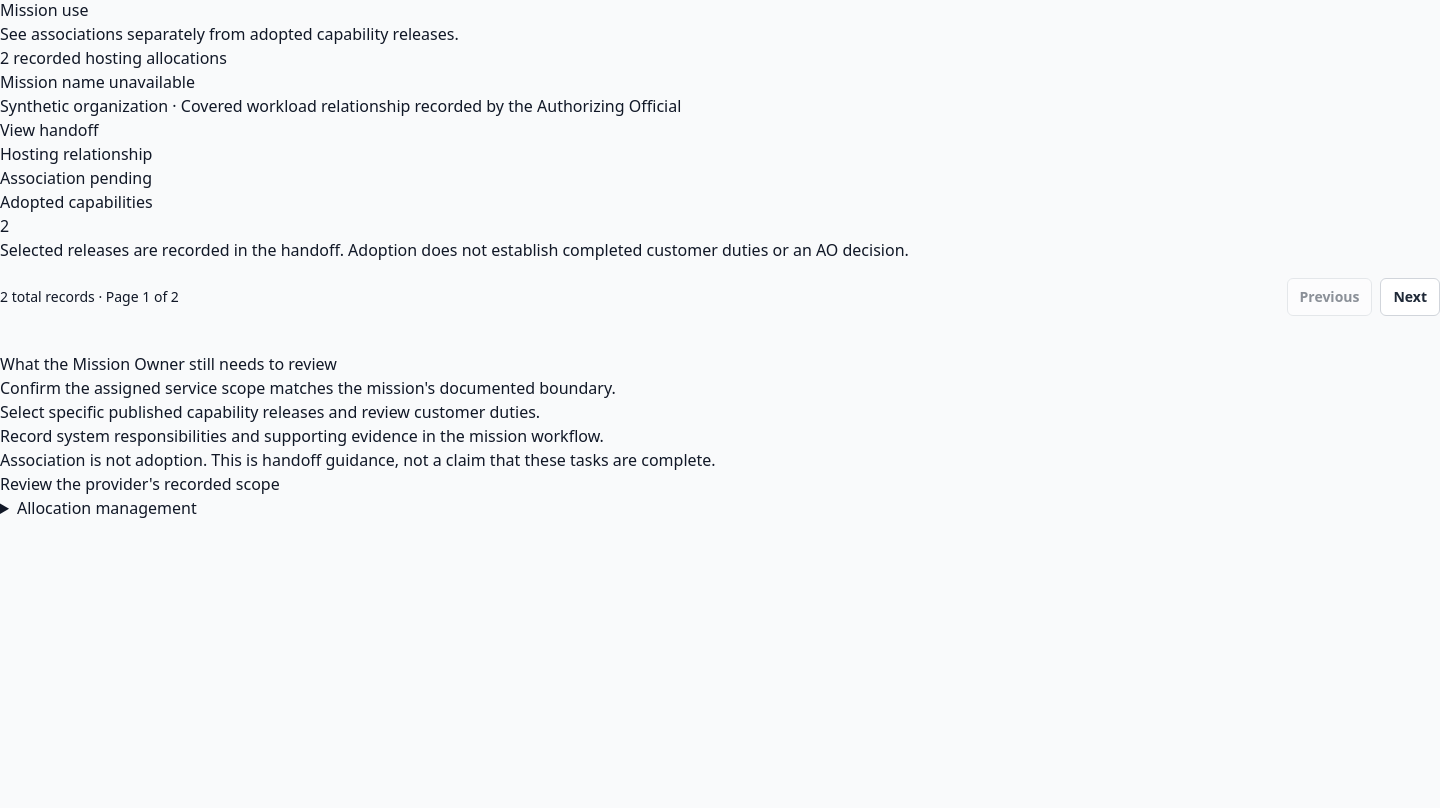
Test: paginates exact adopted releases while distinguishing available updates and unknown versions
The image size is (1440, 808).
Expected: the heading "Mission name unavailable" is shown, [0,71,195,93]
Click the button with aria-label "View handoff for Mission name unavailable": (49, 130) [0,118,98,142]
(page scrolled)
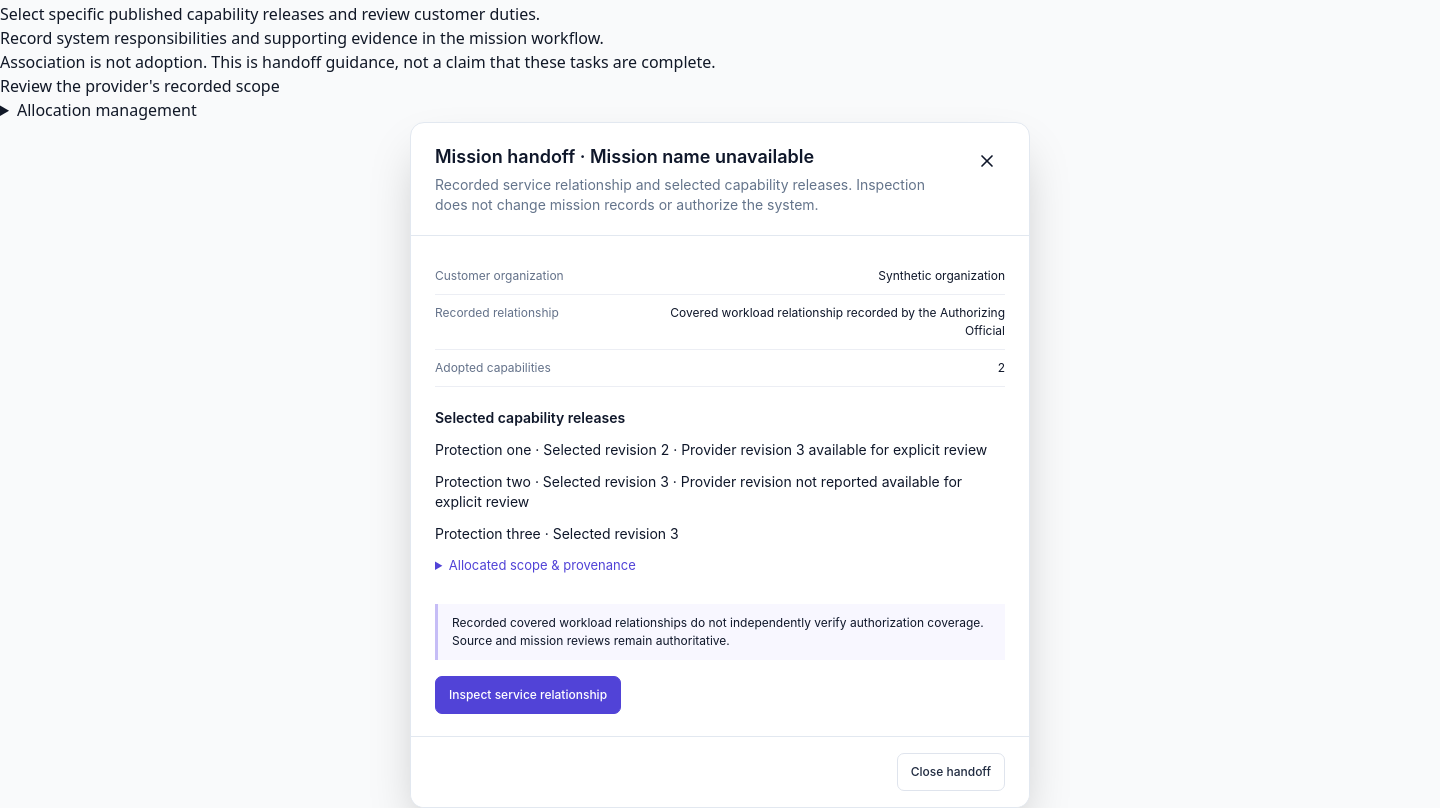
Expected: the list item "Protection one · Selected revision 2" shows "Provider revision 3 available for explicit review", [669,441,987,458]
Expected: the list item "Protection two · Selected revision 3" shows "Provider revision not reported", [435,473,962,510]
Click the button "Close handoff": (951, 772) [897,752,1005,790]
(page scrolled)
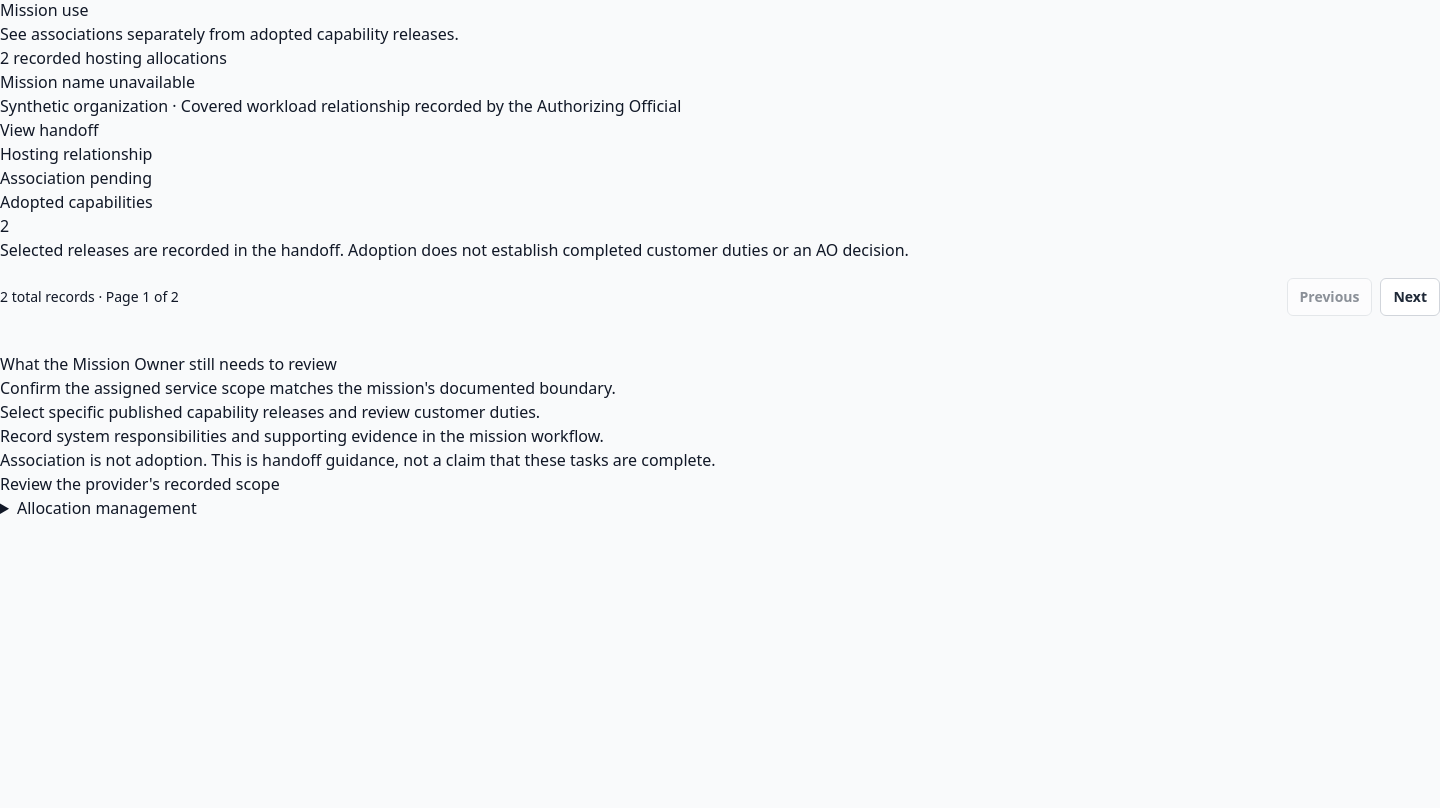
Click the button "Next": (1410, 297) [1380,278,1439,316]
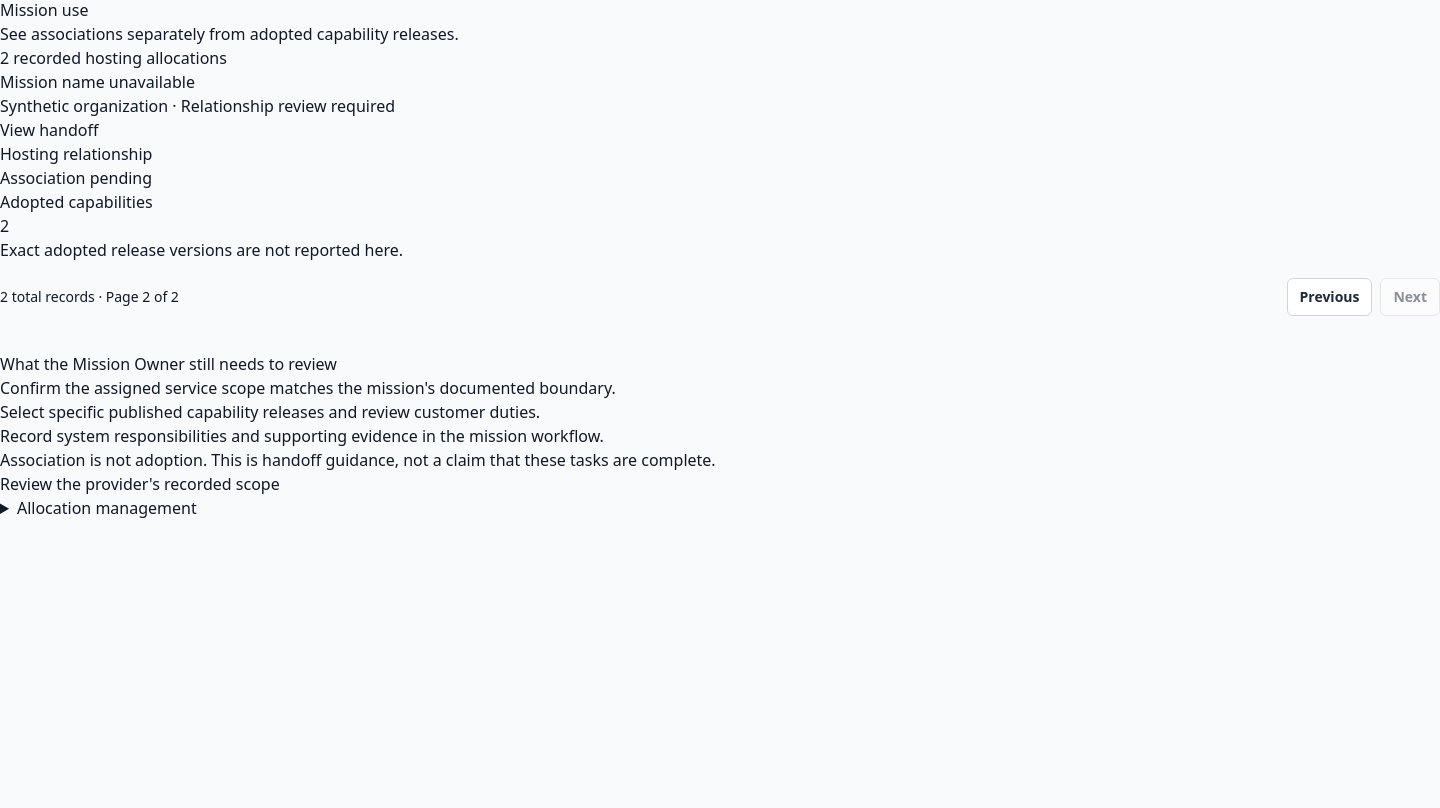
Expected: the text "Exact adopted release versions are not reported here." is shown, [0,239,403,261]
